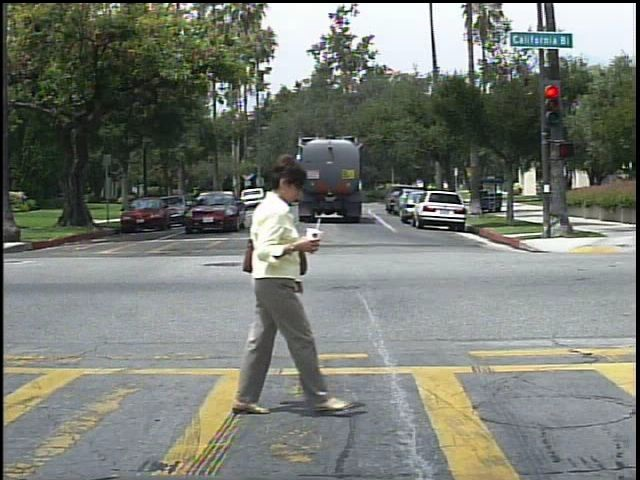person: (219, 151, 339, 423), (515, 180, 528, 200)
